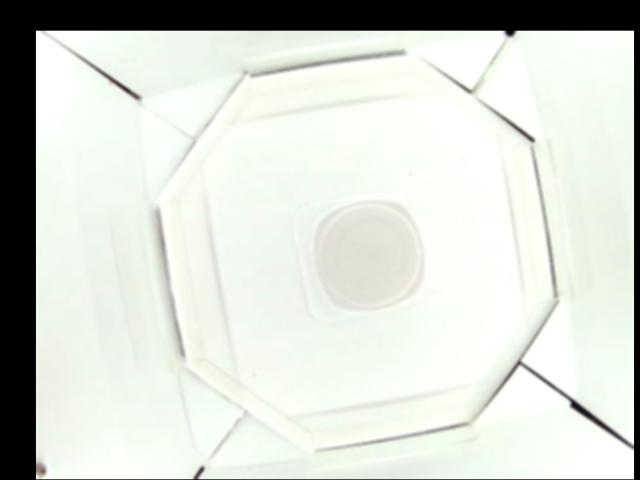Cup: (293, 190, 427, 323)
